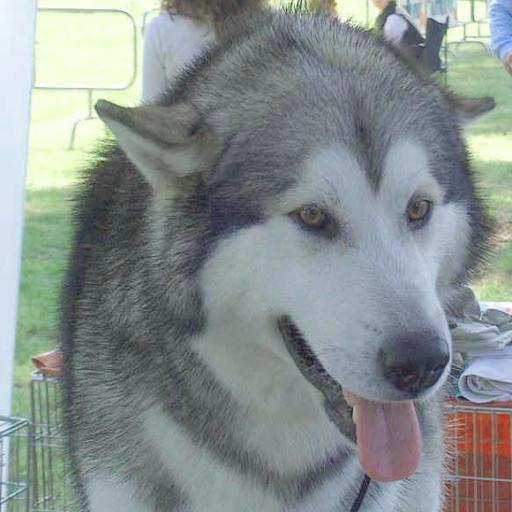dog_face: (92, 2, 498, 464)
